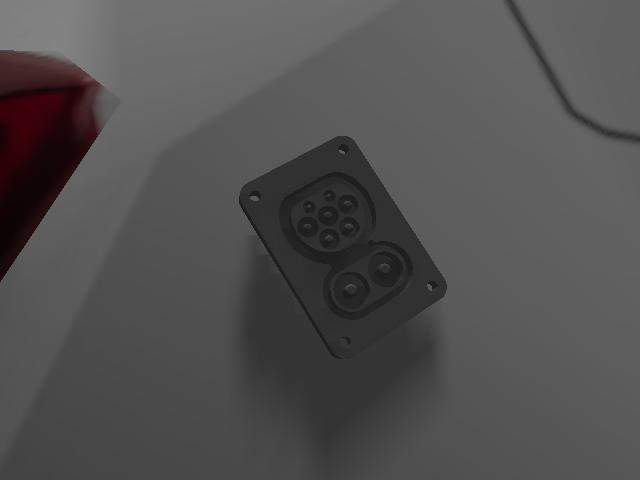EV-socket: (240, 137, 445, 357)
